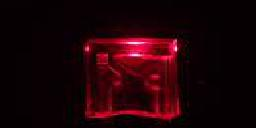LED: (80, 32, 187, 122)
